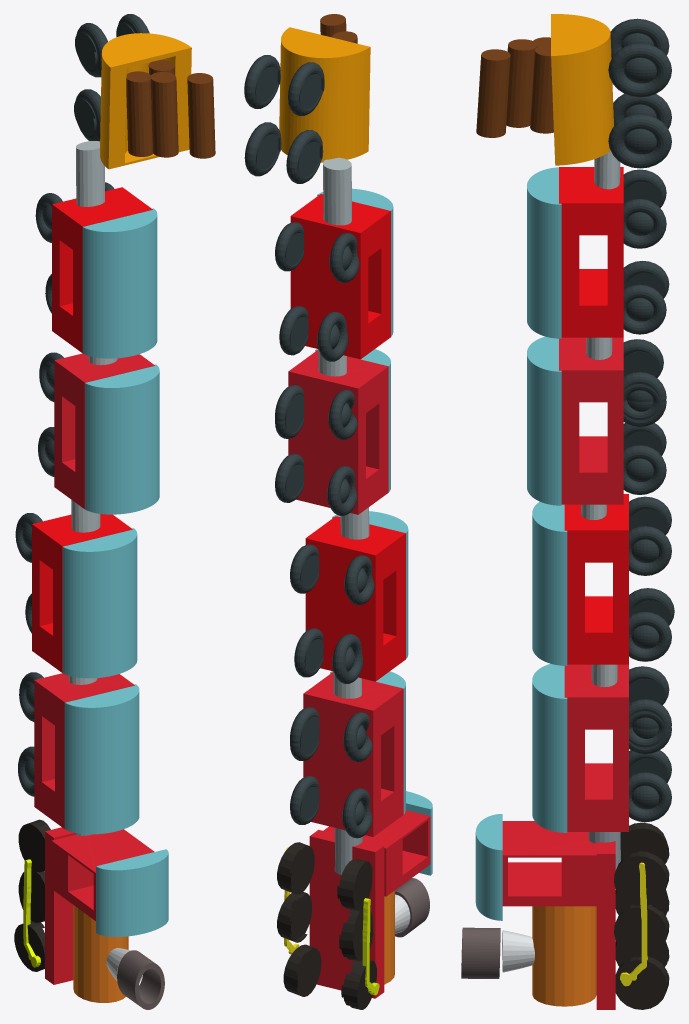
File: tinker.obj
3 renders of one model, left to right at view 1: azimuth 30°, elevation 25°; view 2: azimuth 150°, elevation 25°; view 3: azimuth 270°, elevation 25°, orthographic. The views are drawn at different scales.
Visible parts, largest first — view 1: group_0_7720667, group_0_15277357, group_0_16713746, group_0_3424581, group_0_8011797, group_0_16753920, group_0_16089887, group_0_2828067, group_0_12043463, group_0_7036510, group_0_15073027; view 2: group_0_15277357, group_0_3424581, group_0_16713746, group_0_16753920, group_0_2828067, group_0_7720667, group_0_12043463, group_0_7036510, group_0_16089887, group_0_10069421, group_0_15073027, group_0_8011797 (+1 smaller); view 3: group_0_3424581, group_0_15277357, group_0_7720667, group_0_16713746, group_0_16753920, group_0_2828067, group_0_8011797, group_0_16089887, group_0_12043463, group_0_7036510, group_0_14541540, group_0_16773913.
Part boxes in pixels (left/top/right/bottom): group_0_7720667: left=62, top=208, right=168, bottom=936; group_0_15277357: left=34, top=353, right=154, bottom=984; group_0_16713746: left=32, top=187, right=152, bottom=672; group_0_3424581: left=15, top=14, right=149, bottom=796; group_0_8011797: left=126, top=60, right=215, bottom=158; group_0_16753920: left=100, top=33, right=191, bottom=169; group_0_16089887: left=73, top=905, right=128, bottom=1002; group_0_2828067: left=14, top=819, right=50, bottom=971; group_0_12043463: left=68, top=141, right=117, bottom=684; group_0_7036510: left=117, top=950, right=164, bottom=1009; group_0_15073027: left=23, top=859, right=40, bottom=967; group_0_15277357: left=288, top=350, right=430, bottom=998; group_0_3424581: left=244, top=55, right=374, bottom=838; group_0_16713746: left=290, top=194, right=405, bottom=681; group_0_16753920: left=279, top=27, right=370, bottom=162; group_0_2828067: left=277, top=842, right=376, bottom=1009; group_0_7720667: left=315, top=188, right=432, bottom=875; group_0_12043463: left=318, top=157, right=369, bottom=698; group_0_7036510: left=395, top=878, right=429, bottom=937; group_0_16089887: left=384, top=890, right=394, bottom=984; group_0_10069421: left=334, top=828, right=362, bottom=874; group_0_15073027: left=362, top=898, right=379, bottom=995; group_0_8011797: left=320, top=14, right=357, bottom=43; group_0_3424581: left=608, top=18, right=674, bottom=822; group_0_15277357: left=502, top=337, right=628, bottom=1009; group_0_7720667: left=475, top=167, right=567, bottom=920; group_0_16713746: left=559, top=167, right=628, bottom=664; group_0_16753920: left=551, top=14, right=613, bottom=165; group_0_2828067: left=614, top=822, right=669, bottom=1009; group_0_8011797: left=476, top=37, right=553, bottom=137; group_0_16089887: left=532, top=906, right=596, bottom=1006; group_0_12043463: left=580, top=150, right=620, bottom=687; group_0_7036510: left=461, top=927, right=500, bottom=978; group_0_14541540: left=502, top=930, right=534, bottom=972; group_0_16773913: left=620, top=862, right=647, bottom=986.
Size of the model in its own units: 56 by 406 by 79.41.
